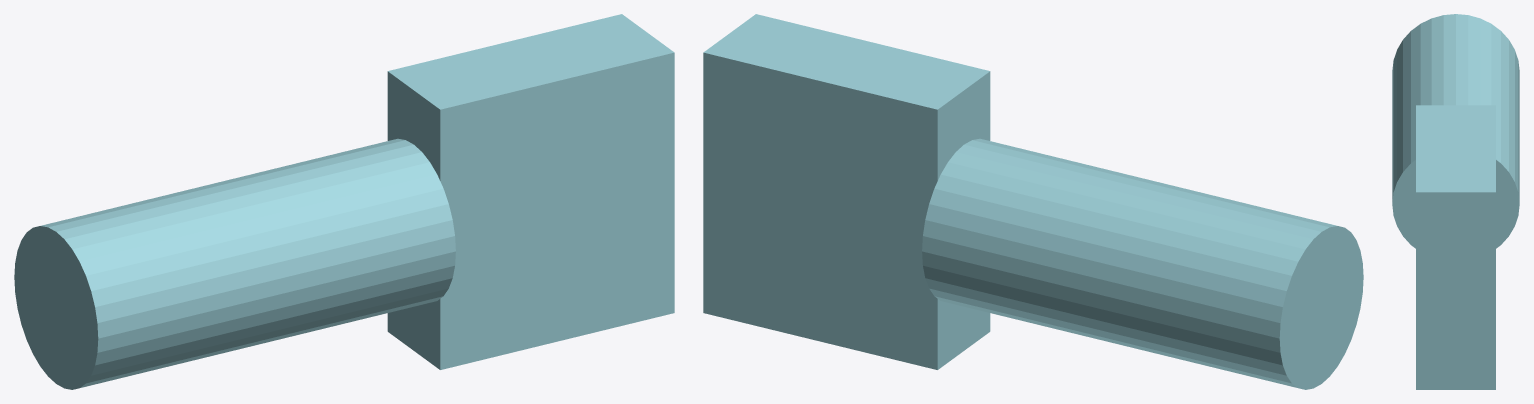
Rendered from cylinder_brush_v11013.obj.
The picture shows the model from 3 angles, left to right: view 1: azimuth 30°, elevation 25°; view 2: azimuth 150°, elevation 25°; view 3: azimuth 270°, elevation 25°; orthographic projection. The views are drawn at different scales.
Size of the model in its own units: 0.1869 by 0.0786 by 0.0459.
1 material, 1 textured.
